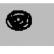correct: (4, 7, 33, 32)
